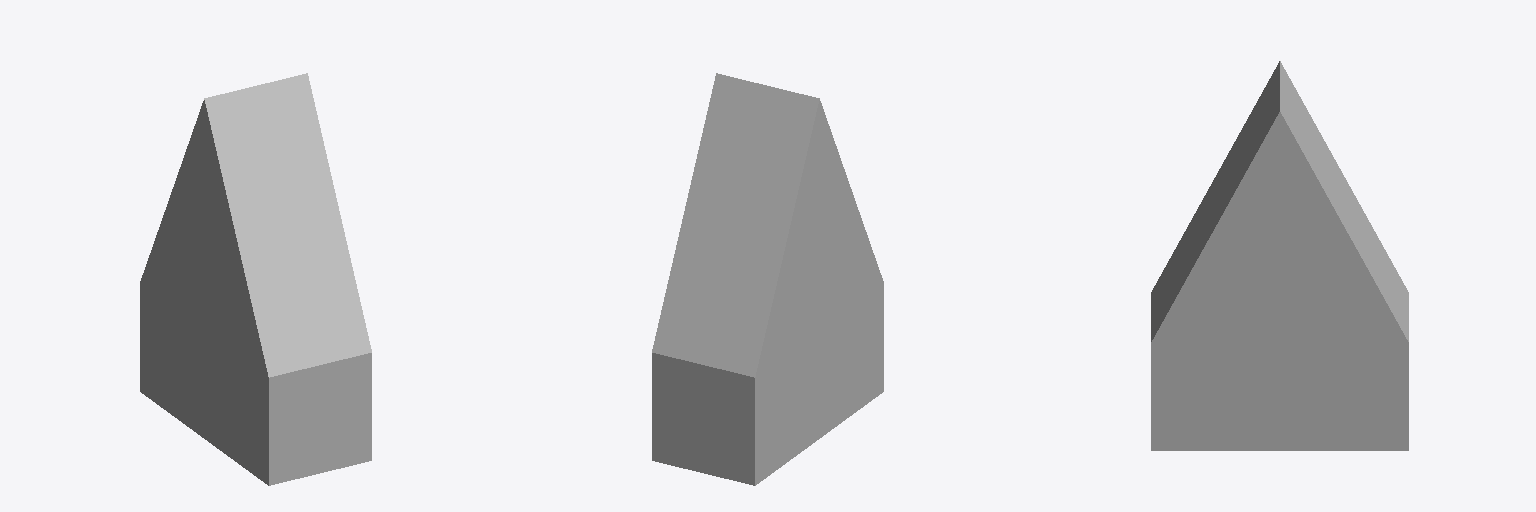
Rendered from building.All files.obj.
3 views of the same model, side by side, from view 1: azimuth 30°, elevation 25°; view 2: azimuth 150°, elevation 25°; view 3: azimuth 270°, elevation 25° (orthographic).
Parts seen in each view (by area): view 1: Default_Prototype, crystler 2; view 2: Default_Prototype, crystler 2; view 3: Default_Prototype.
Part boxes in pixels (x1,y1,x2,y2): Default_Prototype: (204, 73, 371, 485); crystler 2: (140, 100, 268, 485); Default_Prototype: (652, 73, 819, 485); crystler 2: (755, 100, 883, 485); Default_Prototype: (1151, 61, 1408, 450).
Bounding box in the file's own units: 1 × 3.14 × 2.16.